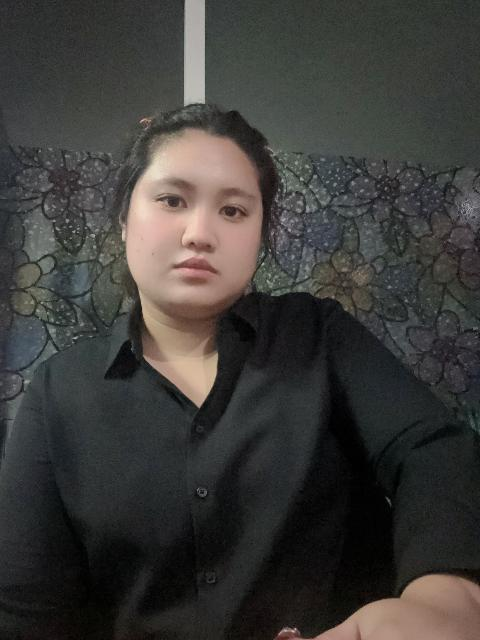fokus: (122, 110, 262, 309)
